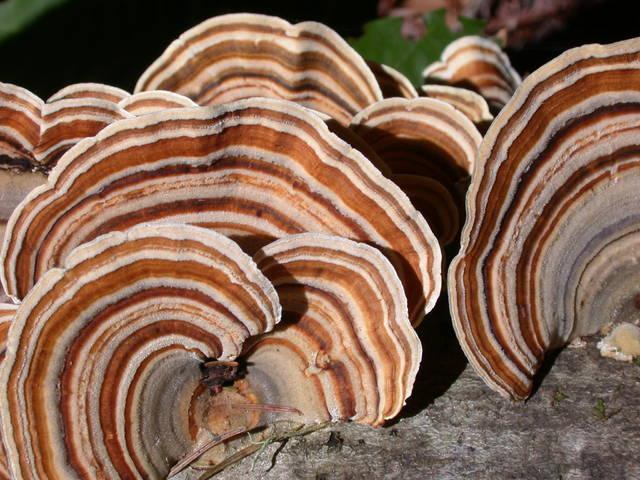Non-edible Mushroom: (0, 9, 446, 479), (445, 33, 639, 402)
